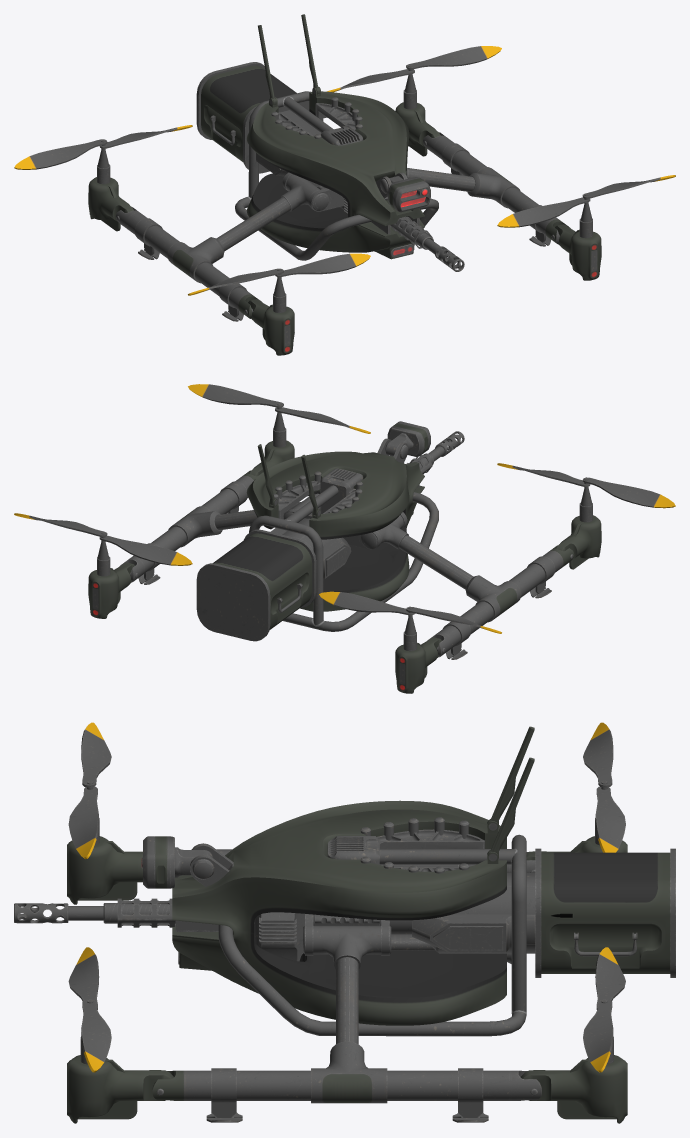
File: assault_drone_concept.glb
3 views of the same model, one above another, from view 1: azimuth 30°, elevation 25°; view 2: azimuth 150°, elevation 25°; view 3: azimuth 270°, elevation 25° (orthographic). The views are drawn at different scales.
Visible parts, largest first — view 1: Drone, Rotor_3, Rotor_2, Rotor_1, Rotor_4; view 2: Drone, Rotor_4, Rotor_1, Rotor_3, Rotor_2; view 3: Drone, Rotor_1, Rotor_2, Rotor_4, Rotor_3.
Boxes of the visible parts, x1,y1,x2,y2 form: Drone: (88, 14, 601, 355); Rotor_3: (497, 175, 675, 227); Rotor_2: (14, 125, 192, 169); Rotor_1: (188, 253, 370, 295); Rotor_4: (327, 46, 501, 92); Drone: (88, 403, 601, 693); Rotor_4: (14, 513, 192, 565); Rotor_1: (497, 463, 675, 508); Rotor_3: (188, 384, 370, 433); Rotor_2: (319, 591, 501, 633); Drone: (14, 726, 675, 1123); Rotor_1: (68, 722, 111, 858); Rotor_2: (583, 722, 625, 852); Rotor_4: (583, 947, 625, 1072); Rotor_3: (68, 947, 111, 1072).
Size of the model in its own units: 2.32 by 0.8288 by 1.86.
2 materials, 2 textured.
